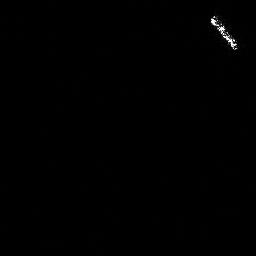ship: (210, 14, 238, 51)
